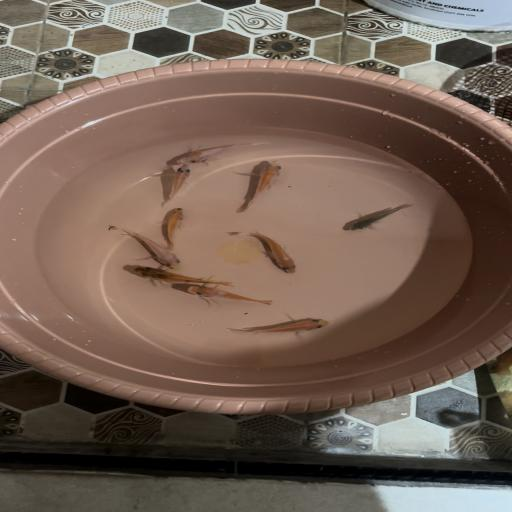nila: (231, 232, 319, 274), (107, 227, 190, 271), (154, 138, 282, 166), (232, 157, 291, 216), (117, 261, 242, 286), (182, 279, 288, 306), (340, 197, 413, 234), (228, 314, 338, 336), (156, 166, 211, 203), (156, 205, 200, 246)
